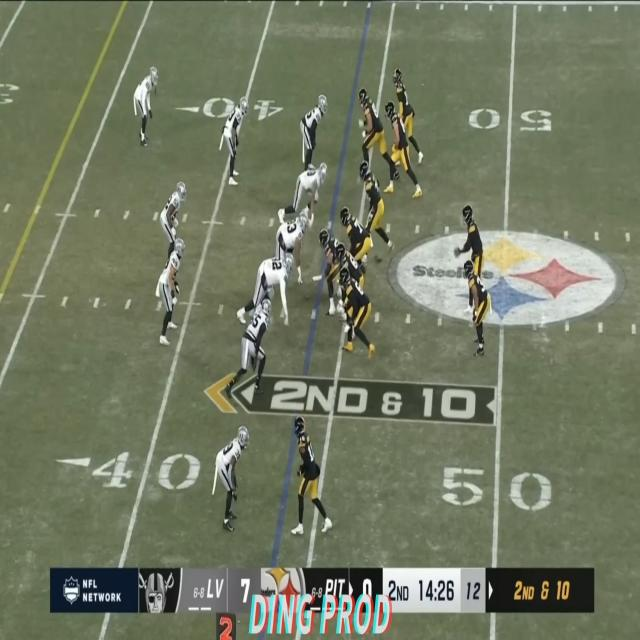players: (289, 417, 335, 542), (233, 299, 272, 402), (384, 101, 422, 202), (217, 426, 253, 532), (244, 257, 298, 325), (359, 164, 397, 259), (158, 238, 188, 346), (391, 66, 424, 164), (344, 273, 377, 358), (132, 62, 162, 150), (359, 87, 386, 183), (318, 226, 347, 314), (290, 164, 331, 226), (300, 94, 330, 177), (466, 258, 490, 356), (328, 242, 357, 322), (223, 97, 249, 184), (274, 210, 310, 270), (341, 206, 372, 275), (162, 182, 188, 262), (461, 207, 484, 294)
